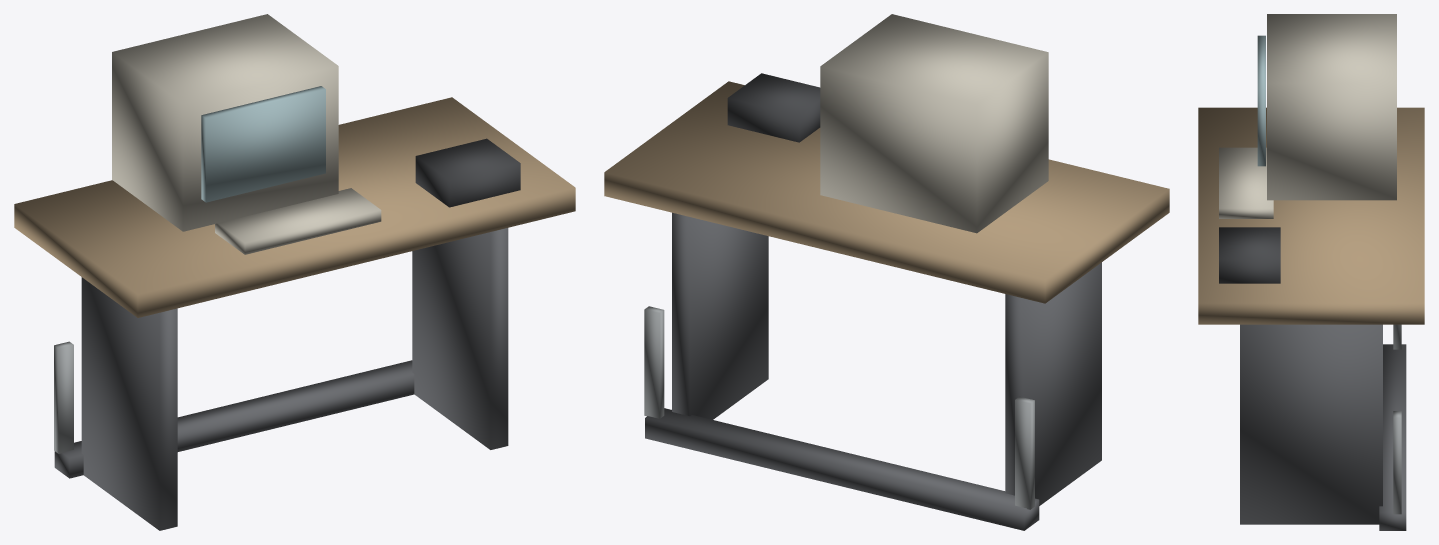
The model's file is crt_workstation__reinforced.glb.
3 renders of one model, left to right at view 1: azimuth 30°, elevation 25°; view 2: azimuth 150°, elevation 25°; view 3: azimuth 270°, elevation 25°, orthographic. The views are drawn at different scales.
Visible parts, largest first — view 1: world; view 2: world; view 3: world.
Boxes of the visible parts, box(x1,y1,x2,y2) form: world: box(14, 14, 575, 530); world: box(604, 14, 1169, 530); world: box(1198, 14, 1424, 530).
Bounding box in the file's own units: 1.39 × 1.23 × 0.6798.
